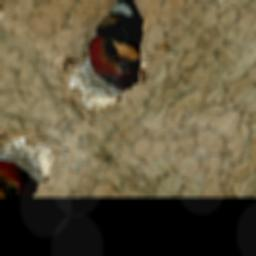Swallow: (74, 4, 174, 96)
